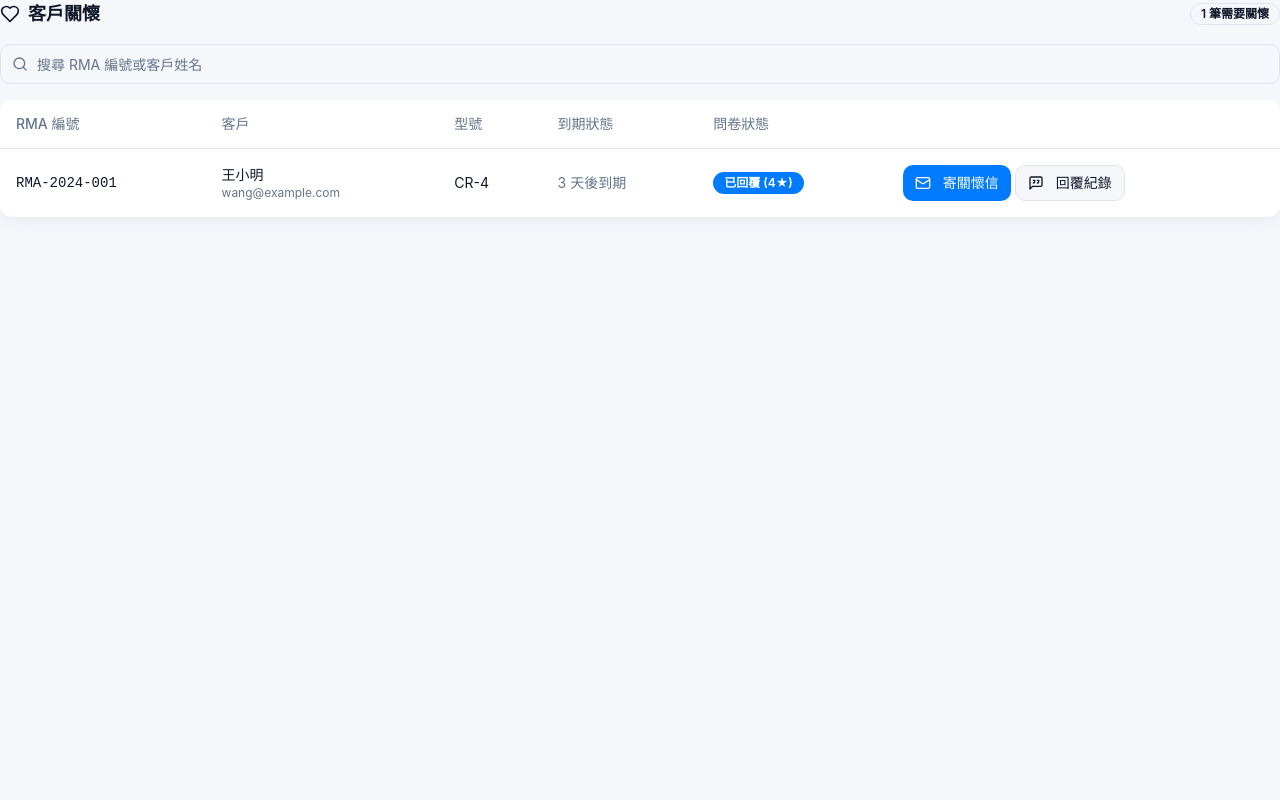
Test: FollowUpTab - 按鈕行為 › 有問卷紀錄時顯示「回覆紀錄」按鈕，點擊開啟問卷 Dialog
expect the text "RMA-2024-001" is shown: met, box 0,148 -> 206,216
Click the button "回覆紀錄" at (1070, 182), box 1015,164 -> 1125,200
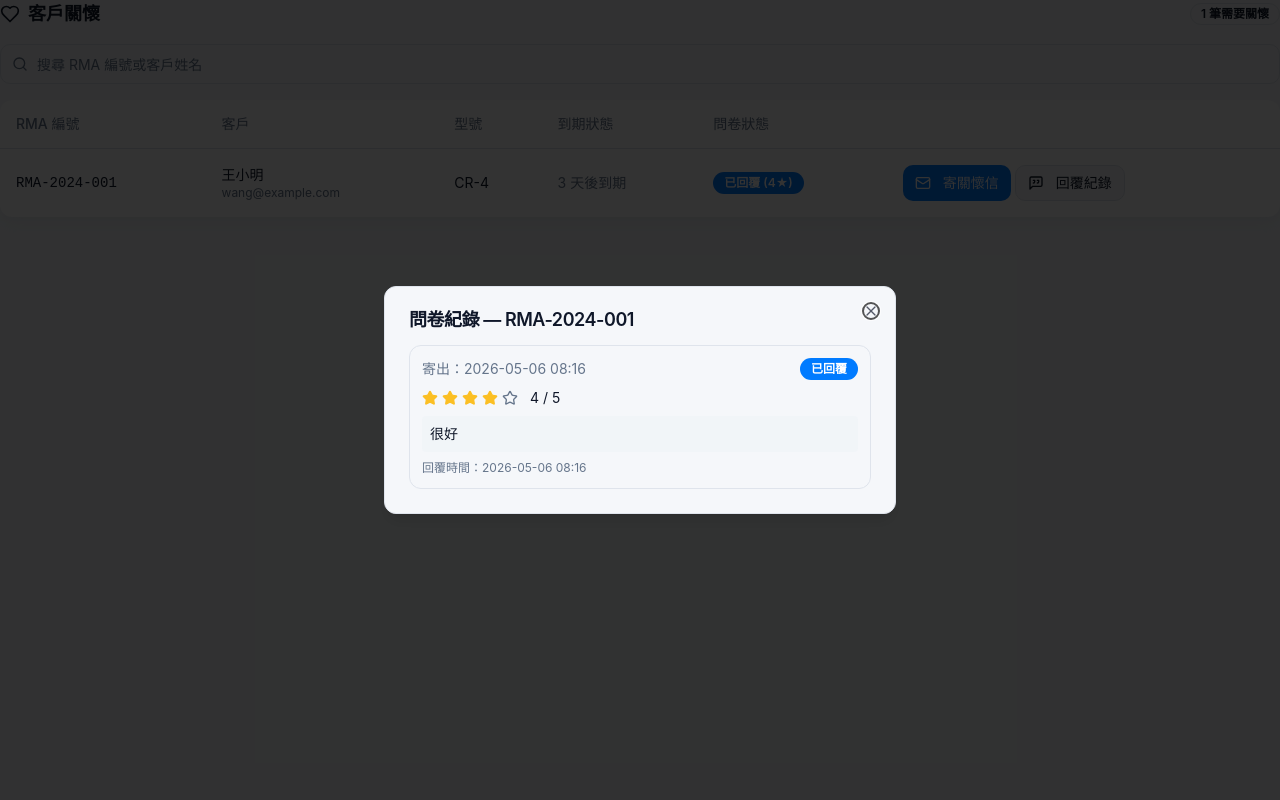
expect the heading "問卷紀錄 — RMA-2024-001" is shown: met, box 409,309 -> 634,330
expect the text "已回覆" is shown: met, box 800,358 -> 858,380
